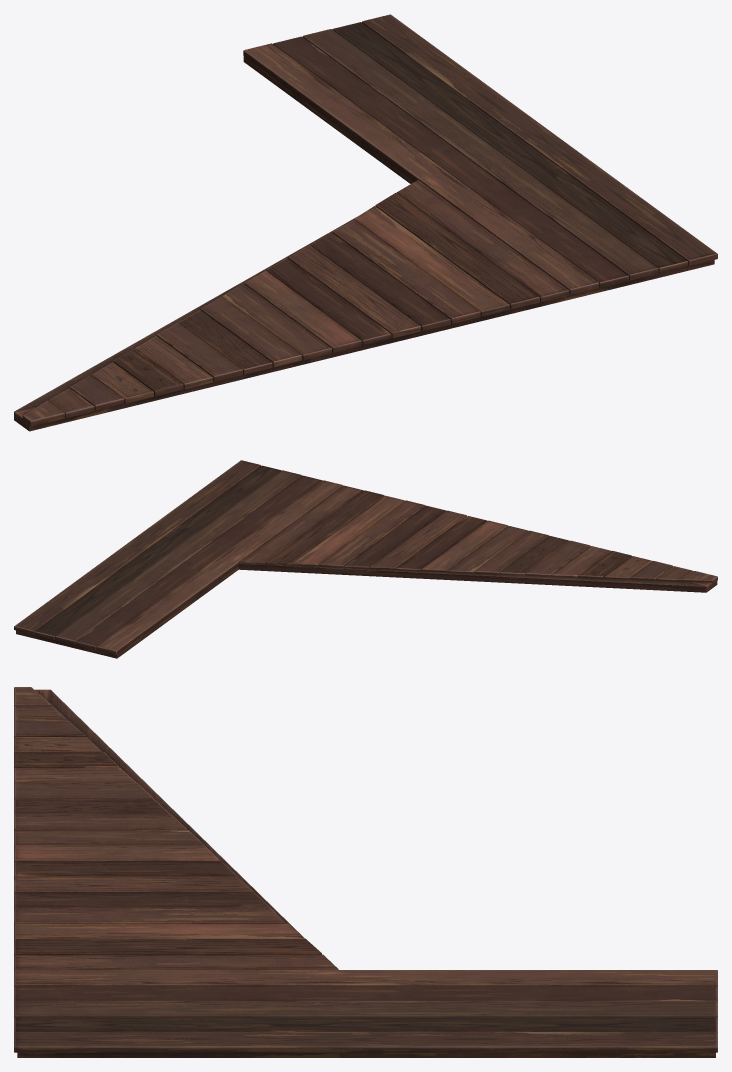
The model's file is SM_Terrace.fbx.
3 renders of one model, top to bottom at view 1: azimuth 30°, elevation 25°; view 2: azimuth 150°, elevation 25°; view 3: azimuth 270°, elevation 25°, orthographic. The views are drawn at different scales.
Parts seen in each view (by area): view 1: SM_Terrace_LOD0; view 2: SM_Terrace_LOD0; view 3: SM_Terrace_LOD0.
Boxes of the visible parts, x1,y1,x2,y2 form: SM_Terrace_LOD0: [14, 14, 717, 431]; SM_Terrace_LOD0: [14, 460, 717, 658]; SM_Terrace_LOD0: [14, 687, 717, 1057].
Size of the model in its own units: 909 by 751 by 14.26.
Materials: 1 (1 with a texture image).
